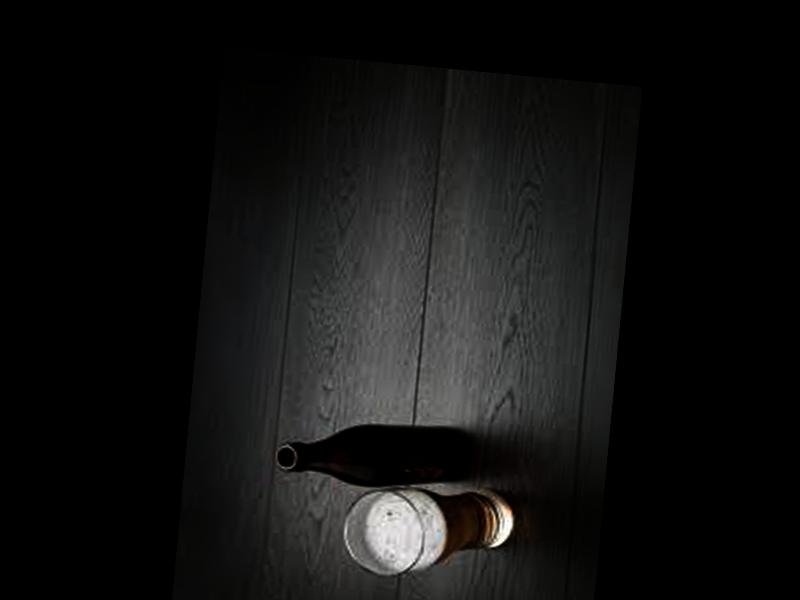Beer: (271, 410, 479, 498)
